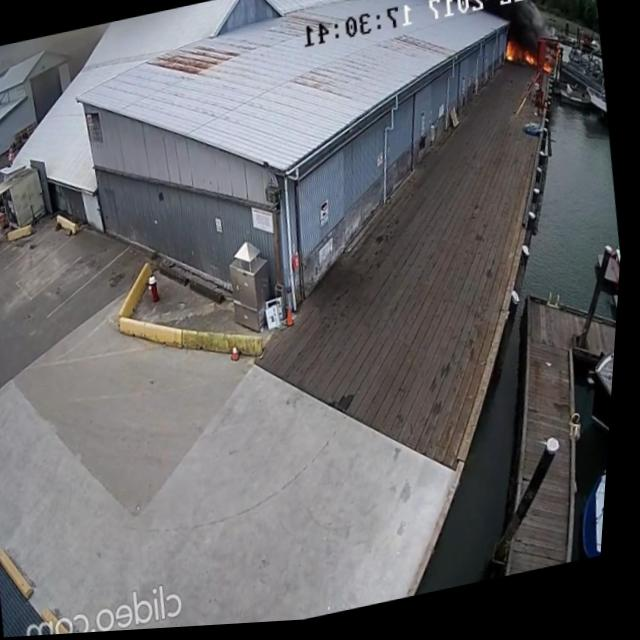fire: (503, 43, 523, 70), (522, 55, 542, 79), (542, 65, 555, 82)
